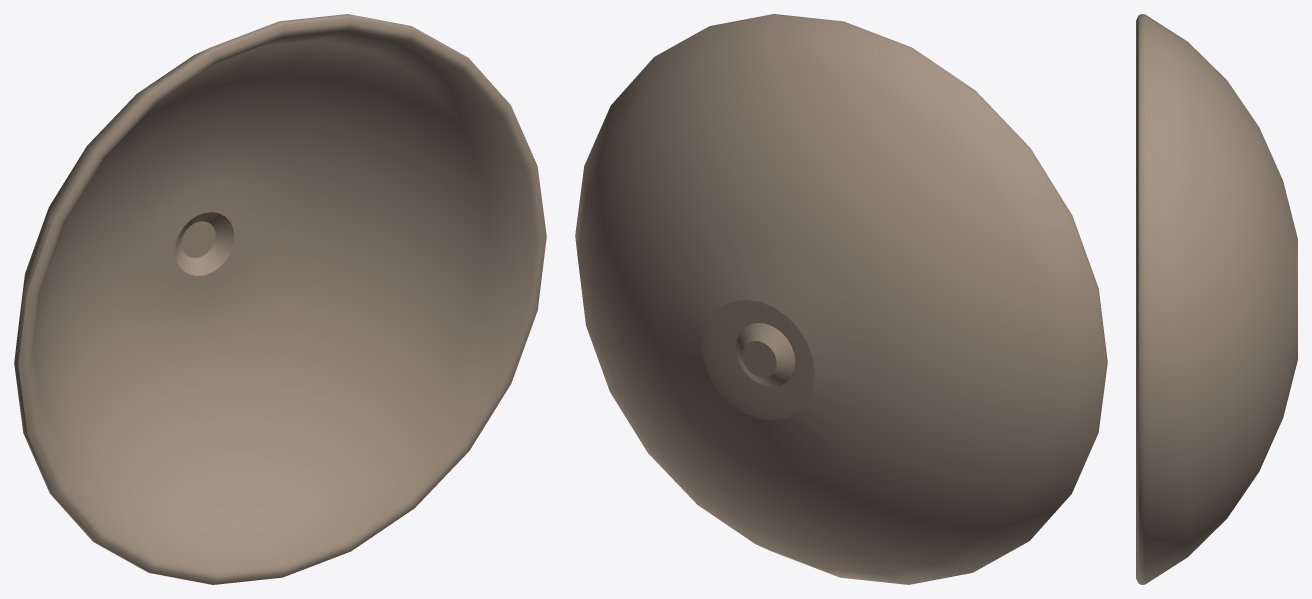
Rendered from Sink_18_Sink_18_0_GeomSubset_0.obj.
3 views of the same model, side by side, from view 1: azimuth 30°, elevation 25°; view 2: azimuth 150°, elevation 25°; view 3: azimuth 270°, elevation 25° (orthographic). The views are drawn at different scales.
Parts seen in each view (by area): view 1: Sink_18_Sink_18_0_GeomSubset_0; view 2: Sink_18_Sink_18_0_GeomSubset_0; view 3: Sink_18_Sink_18_0_GeomSubset_0.
Boxes of the visible parts, x1,y1,x2,y2 form: Sink_18_Sink_18_0_GeomSubset_0: (14, 14, 546, 584); Sink_18_Sink_18_0_GeomSubset_0: (575, 14, 1107, 584); Sink_18_Sink_18_0_GeomSubset_0: (1136, 14, 1297, 584).
Bounding box in the file's own units: 0.6771 × 0.6771 × 0.1912.
